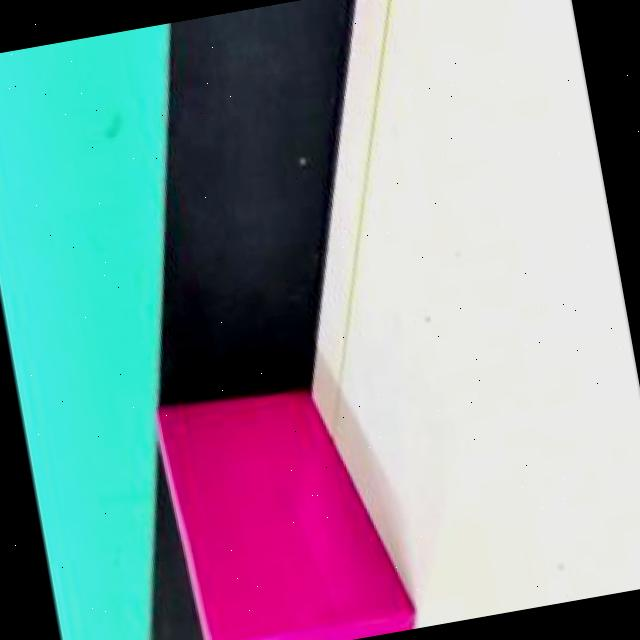xparking: (166, 385, 421, 640)
